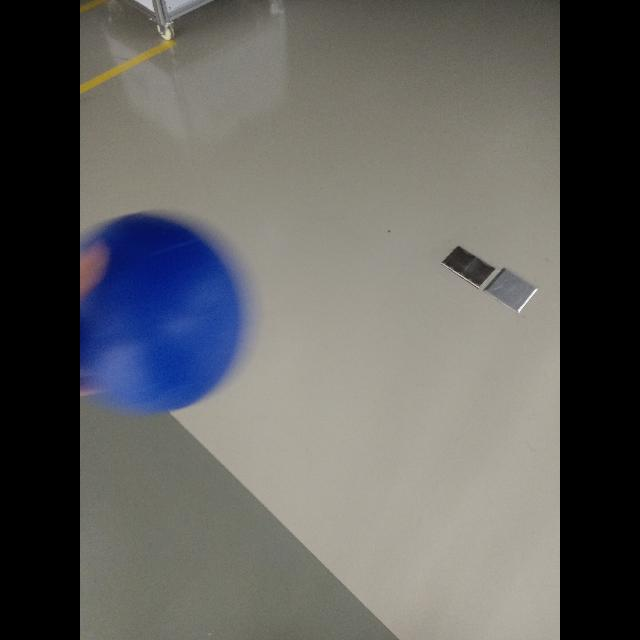B: (80, 215, 240, 417)
